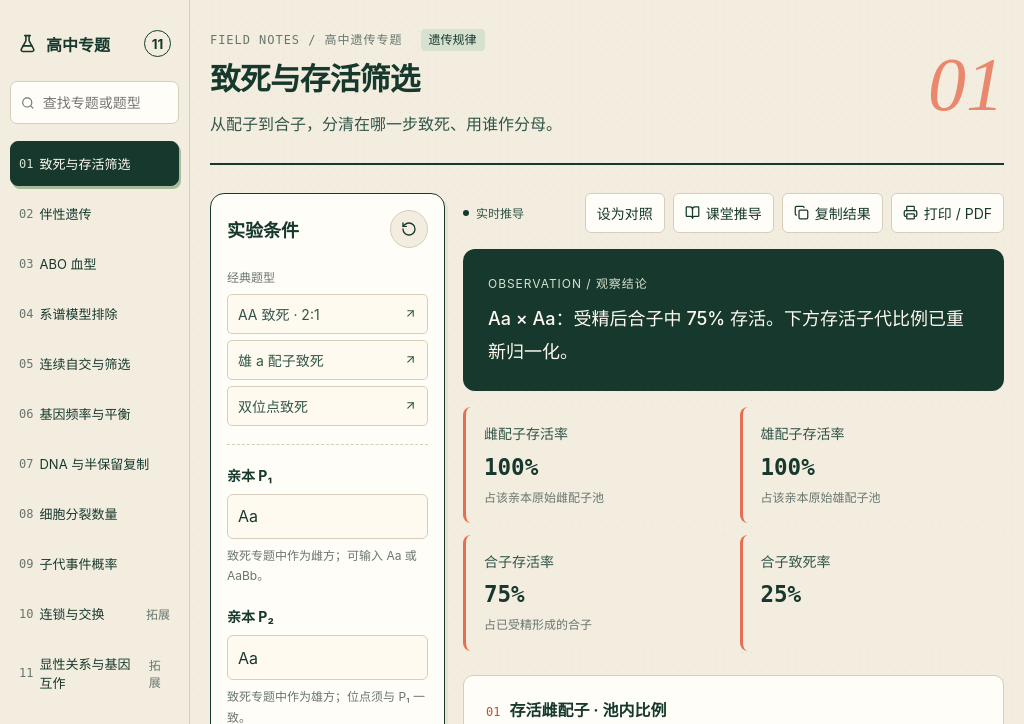
Test: high-school workbench › navigates to sex linkage and uses its default valid settings
Click the button "02 伴性遗传". click: (94, 214)
box: [10, 191, 179, 236]
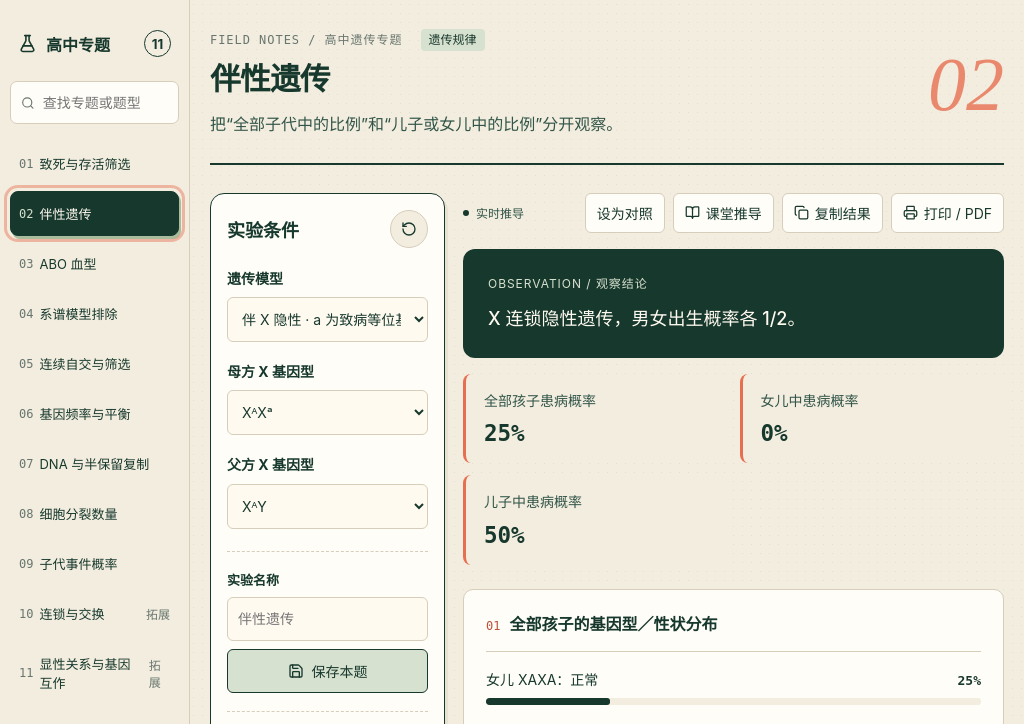
Expected: the heading "伴性遗传" is shown, [210, 63, 330, 97]
Expected: the dropdown labelled "遗传模型" shows "伴 X 隐性 · a 为致病等位基因", [227, 297, 428, 342]
